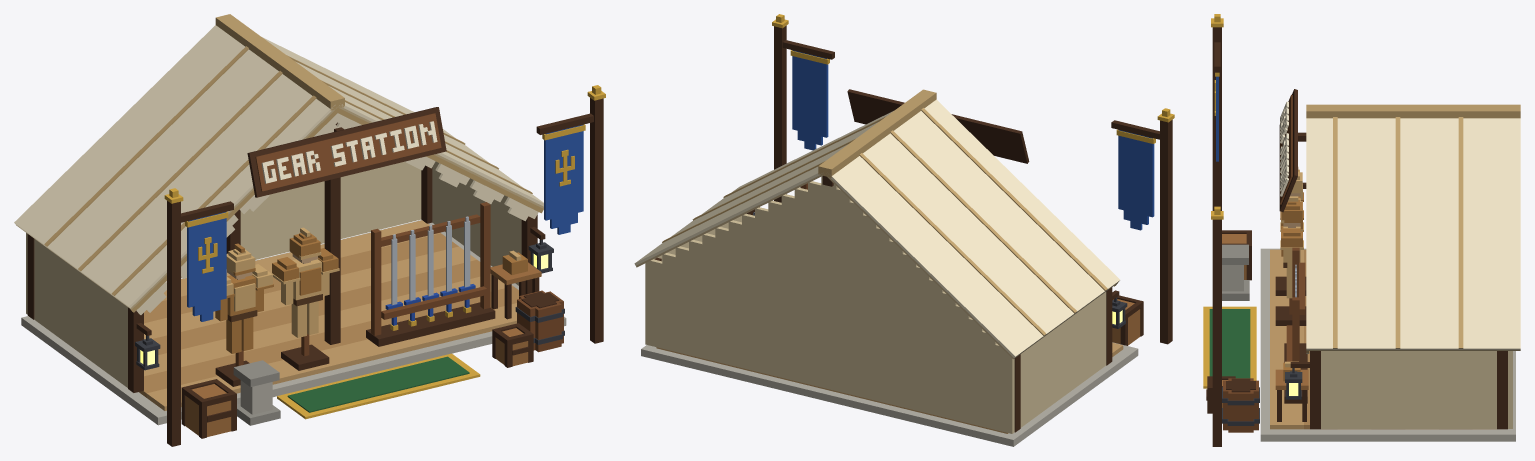
File: Lobby_GearStation.glb
3 views of the same model, side by side, from view 1: azimuth 30°, elevation 25°; view 2: azimuth 150°, elevation 25°; view 3: azimuth 270°, elevation 25° (orthographic). The views are drawn at different scales.
Parts seen in each view (by area): view 1: TentRoof_Canvas, TentWalls_CanvasSide, Floor_PlankA, Floor_PlankB, TentRoof_CanvasTrim, Poles_WoodDark, Floor_StoneLight, Sign_Wood, WeaponRack_Wood, BannerRight_WoodDark, BannerLeft_WoodDark, Rug_RugGreen (+26 smaller); view 2: TentWalls_CanvasSide, TentRoof_Canvas, TentRoof_CanvasTrim, Floor_StoneLight, BannerLeft_WoodDark, BannerLeft_BannerBlue, BannerRight_BannerBlue, Sign_WoodDark, BannerRight_WoodDark, Poles_WoodDark, TentRoof_CanvasUnder, Floor_PlankA (+2 smaller); view 3: TentRoof_Canvas, TentWalls_CanvasSide, TentRoof_CanvasTrim, Floor_StoneLight, Floor_PlankA, BannerRight_WoodDark, Rug_RugGreen, Poles_WoodDark, BannerLeft_WoodDark, WeaponRack_Wood, Barrel_Wood, Rug_Gold (+16 smaller).
Part boxes in pixels (x1,y1,x2,y2): TentRoof_Canvas: [14, 25, 543, 314]; TentWalls_CanvasSide: [26, 161, 521, 387]; Floor_PlankA: [144, 220, 516, 410]; Floor_PlankB: [139, 233, 518, 397]; TentRoof_CanvasTrim: [44, 14, 543, 312]; Poles_WoodDark: [27, 122, 537, 392]; Floor_StoneLight: [21, 220, 566, 425]; Sign_Wood: [255, 113, 441, 191]; WeaponRack_Wood: [371, 202, 490, 335]; BannerRight_WoodDark: [536, 98, 603, 343]; BannerLeft_WoodDark: [167, 201, 233, 446]; Rug_RugGreen: [287, 356, 469, 412]; TentWalls_CanvasSide: [645, 176, 1106, 433]; TentRoof_Canvas: [634, 99, 1119, 358]; TentRoof_CanvasTrim: [662, 89, 1117, 335]; Floor_StoneLight: [641, 342, 1138, 446]; BannerLeft_WoodDark: [1111, 119, 1172, 344]; BannerLeft_BannerBlue: [1118, 129, 1154, 230]; BannerRight_BannerBlue: [792, 50, 828, 150]; Sign_WoodDark: [847, 89, 1029, 163]; BannerRight_WoodDark: [774, 25, 834, 202]; Poles_WoodDark: [654, 176, 1112, 432]; TentRoof_CanvasUnder: [636, 173, 1118, 359]; Floor_PlankA: [656, 342, 1123, 433]; TentRoof_Canvas: [1306, 118, 1520, 353]; TentWalls_CanvasSide: [1321, 351, 1512, 428]; TentRoof_CanvasTrim: [1306, 104, 1520, 353]; Floor_StoneLight: [1260, 248, 1515, 441]; Floor_PlankA: [1270, 249, 1496, 429]; BannerRight_WoodDark: [1212, 206, 1221, 446]; Rug_RugGreen: [1209, 309, 1250, 378]; Poles_WoodDark: [1310, 351, 1507, 429]; BannerLeft_WoodDark: [1212, 27, 1221, 210]; WeaponRack_Wood: [1286, 247, 1305, 361]; Barrel_Wood: [1223, 378, 1258, 432]; Rug_Gold: [1203, 306, 1256, 388].
Bounding box in the file's own units: 5.96 × 3.38 × 4.04.
